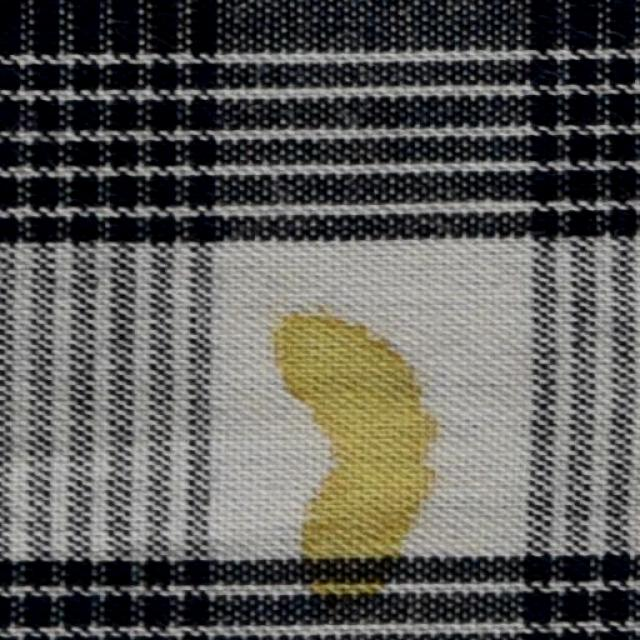Stain: (267, 312, 438, 607)
